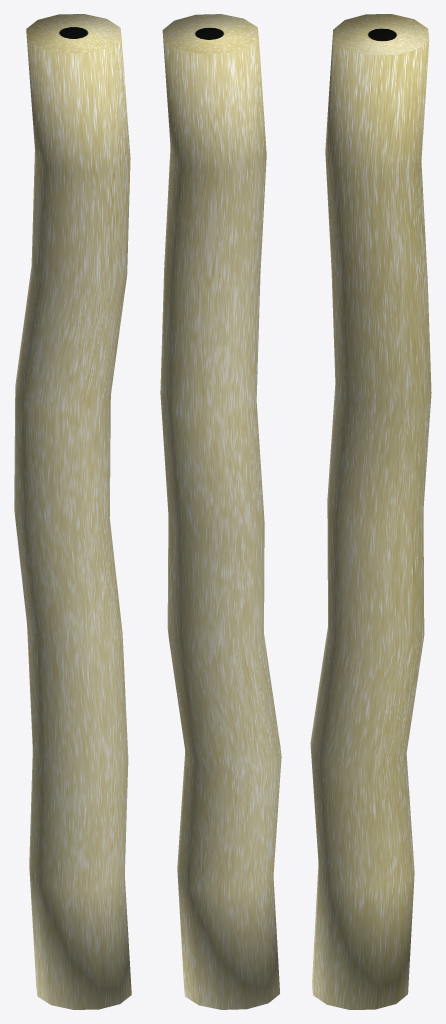
The model's file is PoolNoodle.fbx.
The picture shows the model from 3 angles, left to right: view 1: azimuth 90°, elevation 25°; view 2: azimuth 150°, elevation 25°; view 3: azimuth 330°, elevation 25°; orthographic projection.
Parts seen in each view (by area): view 1: Cylinder.003; view 2: Cylinder.003; view 3: Cylinder.003.
Part boxes in pixels (x1=…): Cylinder.003: x1=14, y1=14, x2=131, y2=1009; Cylinder.003: x1=160, y1=14, x2=281, y2=1009; Cylinder.003: x1=310, y1=14, x2=431, y2=1009.
Size of the model in its own units: 0.0599 by 0.5273 by 0.0591.
